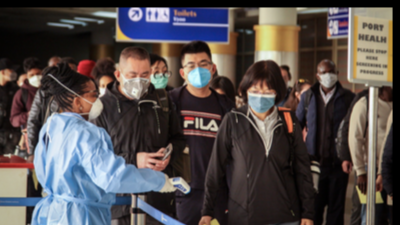with_mask: (184, 57, 213, 90), (120, 69, 150, 99), (246, 85, 276, 115), (81, 88, 103, 118), (150, 65, 170, 89), (319, 68, 338, 88), (27, 71, 43, 87)
